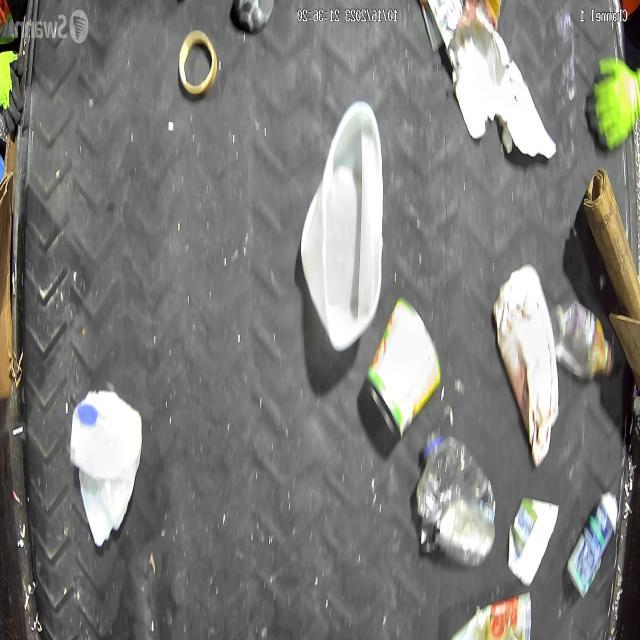can: (364, 296, 443, 438)
milk_jug: (300, 101, 384, 351), (68, 390, 142, 549)
plastic_bottle: (414, 430, 496, 568), (550, 297, 615, 382)
